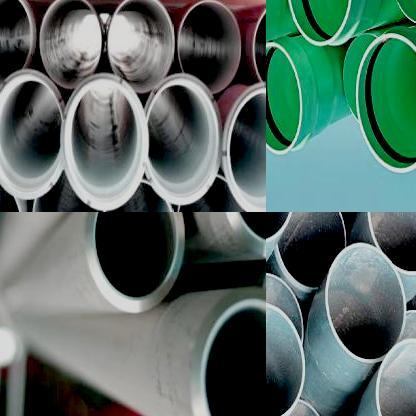pipe: (81, 212, 188, 316), (64, 78, 146, 209), (144, 74, 222, 205), (188, 286, 266, 416), (326, 244, 406, 364), (355, 33, 416, 173), (0, 69, 63, 199), (107, 0, 175, 93), (178, 0, 242, 92), (274, 212, 347, 292), (39, 0, 102, 88), (225, 86, 266, 212), (266, 302, 305, 416), (266, 42, 303, 154), (375, 338, 416, 416), (367, 212, 416, 276), (286, 0, 352, 45), (33, 170, 101, 212), (0, 0, 31, 86), (176, 176, 246, 212), (101, 179, 177, 212), (397, 310, 416, 382), (253, 0, 266, 85)
